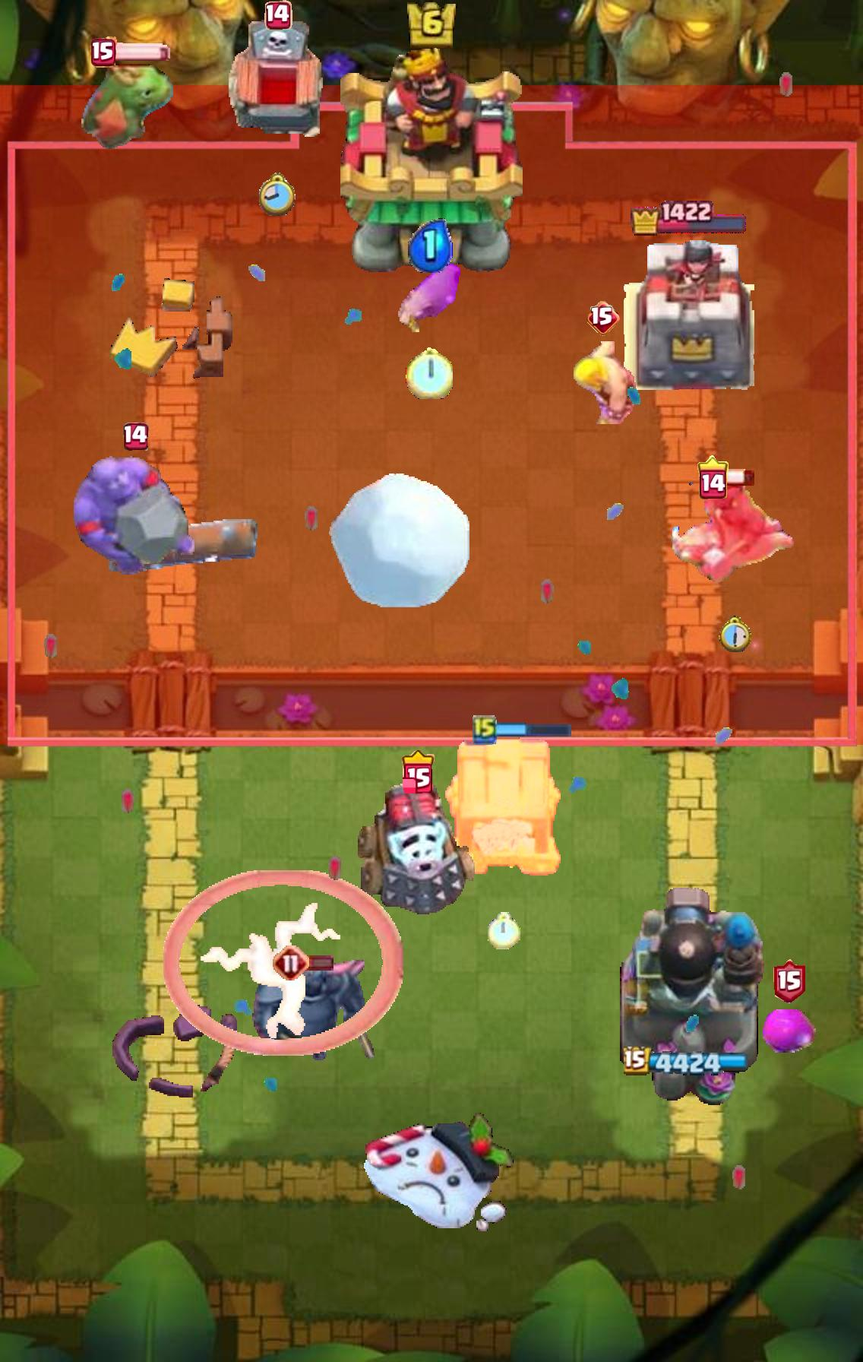elixir: (407, 218, 453, 273)
